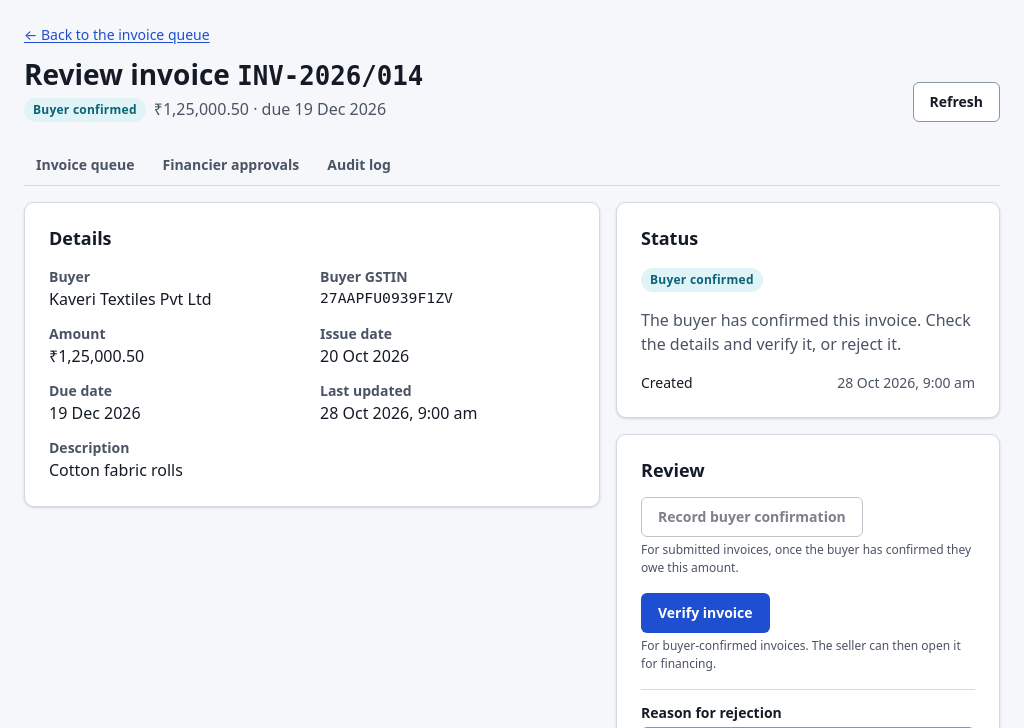
Scenario: InvoiceReviewComponent › verifies a buyer-confirmed invoice with the current ETag
Click the button "Verify invoice". click: (705, 613)
box: [641,593,770,633]
(page scrolled)
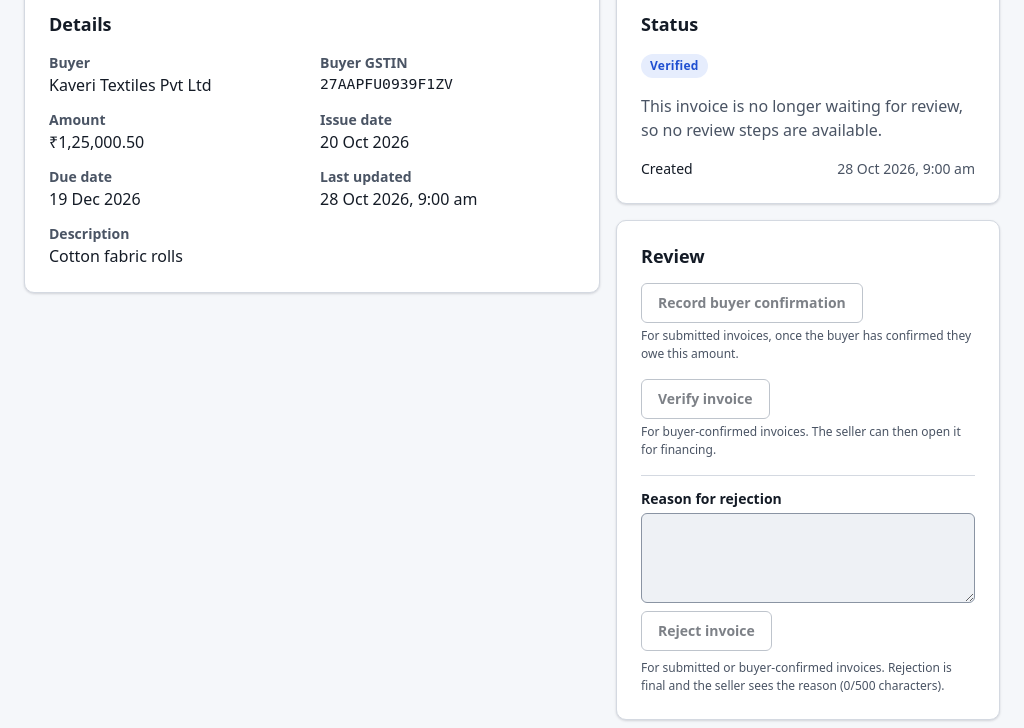
Expected: the button "Reject invoice" is disabled, [641,611,772,651]
